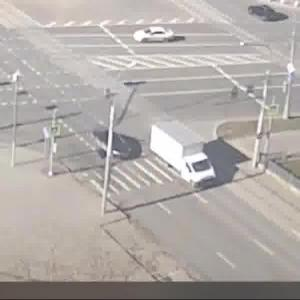car: (151, 120, 217, 191), (89, 126, 136, 163), (246, 5, 288, 25), (132, 27, 181, 43)
